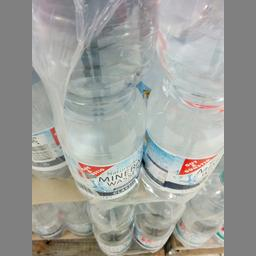water: (32, 0, 141, 195), (144, 0, 223, 197)
